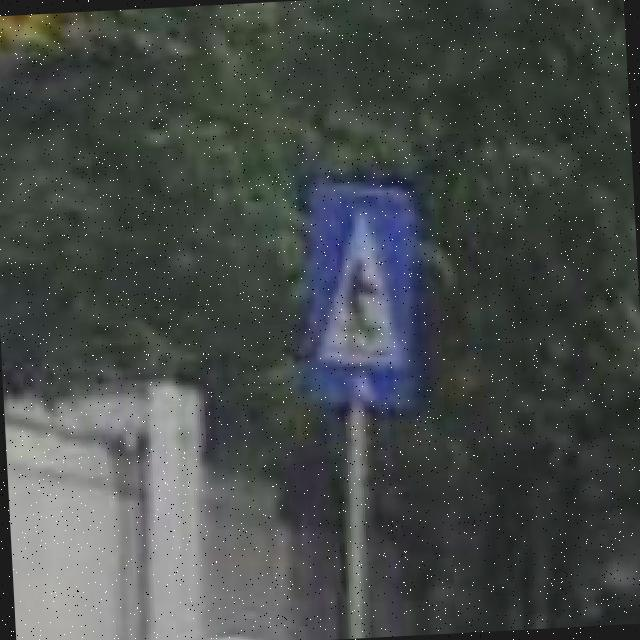Przejscie dla pieszych: (308, 179, 428, 411)
